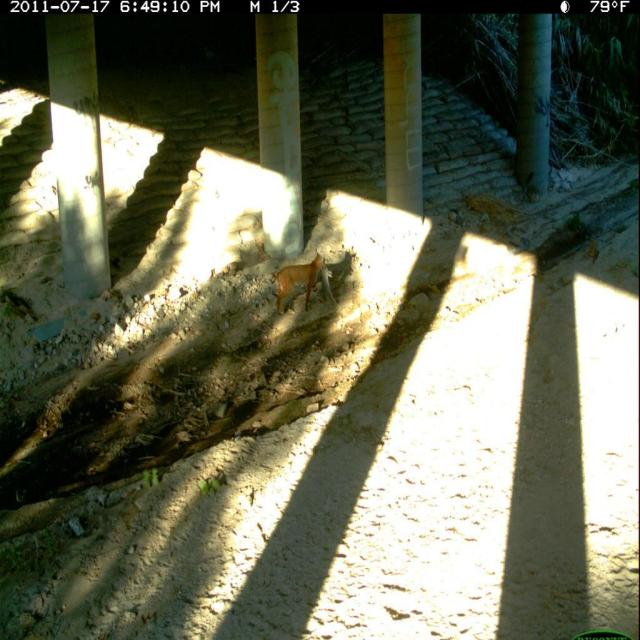bobcat: (269, 246, 330, 321)
rabbit: (321, 258, 340, 308)
